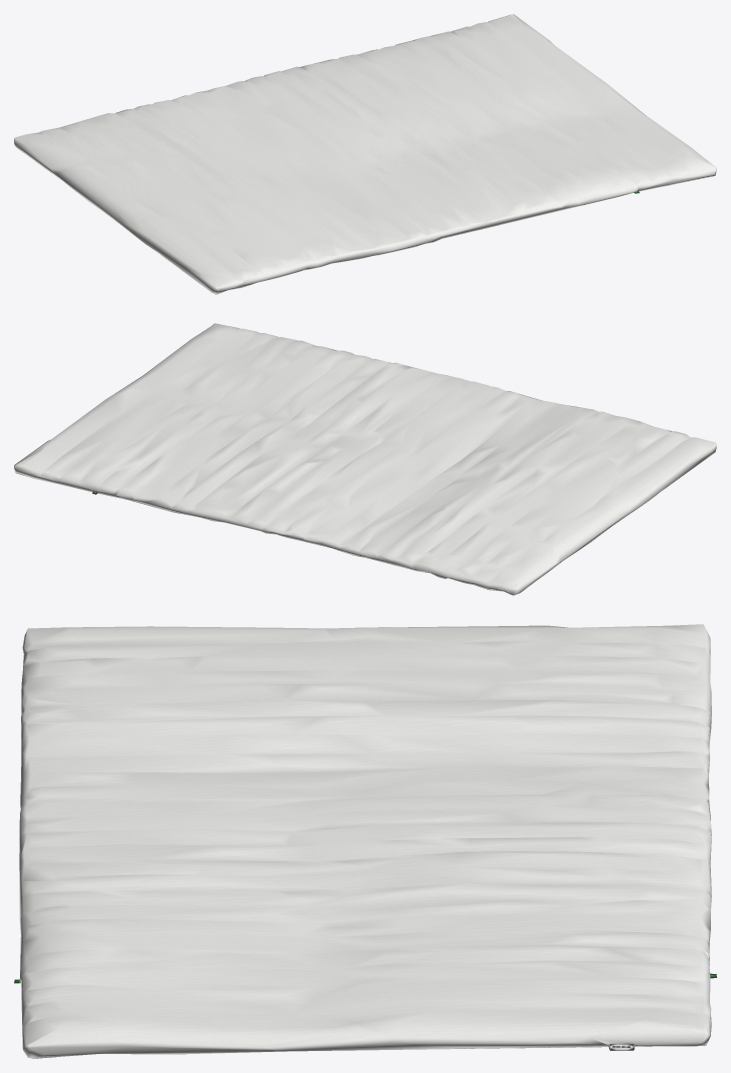
The picture shows the model from 3 angles, top to bottom: view 1: azimuth 30°, elevation 25°; view 2: azimuth 150°, elevation 25°; view 3: azimuth 270°, elevation 25°; orthographic projection. The views are drawn at different scales.
Visible parts, largest first — view 1: ProcessedMeshNode; view 2: ProcessedMeshNode; view 3: ProcessedMeshNode.
Boxes of the visible parts, bbox=[...] form: ProcessedMeshNode: bbox=[14, 14, 716, 294]; ProcessedMeshNode: bbox=[14, 323, 716, 595]; ProcessedMeshNode: bbox=[14, 624, 716, 1058].
Bounding box in the file's own units: 2.02 × 0.0789 × 1.44.
Materials: 1 (1 with a texture image).
